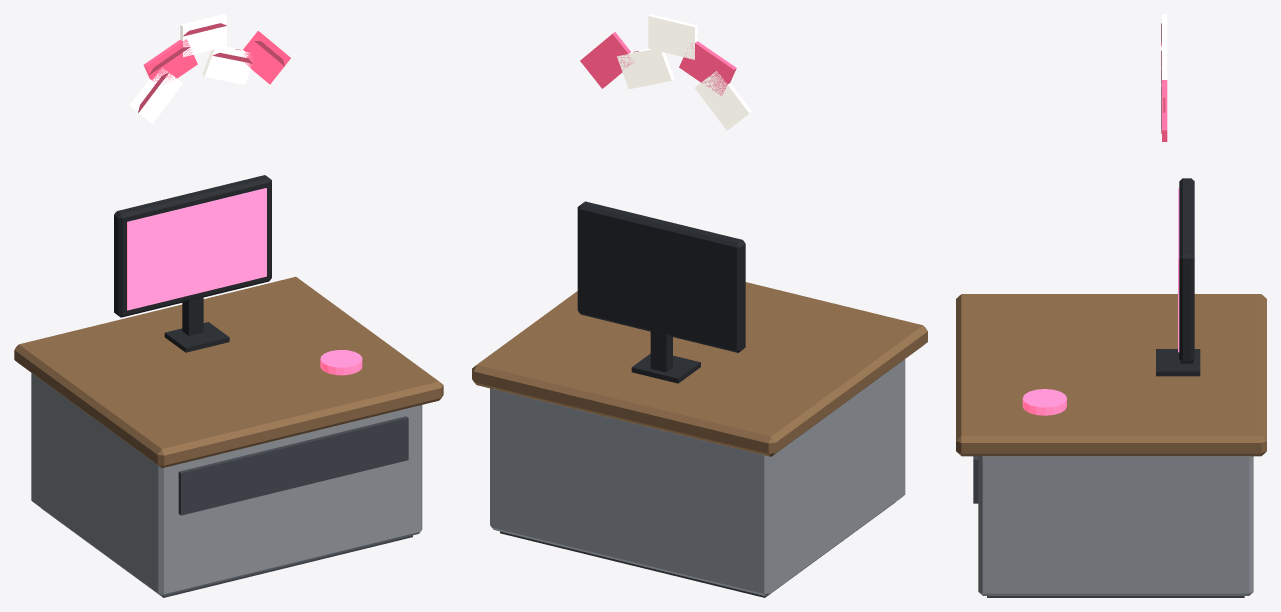
The model's file is replyall_2.glb.
3 views of the same model, side by side, from view 1: azimuth 30°, elevation 25°; view 2: azimuth 150°, elevation 25°; view 3: azimuth 270°, elevation 25° (orthographic). The views are drawn at different scales.
Parts seen in each view (by area): view 1: replyall_2_mesh_Desk, replyall_2_mesh; view 2: replyall_2_mesh_Desk, replyall_2_mesh; view 3: replyall_2_mesh_Desk, replyall_2_mesh.
Part boxes in pixels (bbox=[...]): replyall_2_mesh_Desk: bbox=[14, 276, 443, 597]; replyall_2_mesh: bbox=[114, 14, 362, 375]; replyall_2_mesh_Desk: bbox=[472, 282, 927, 597]; replyall_2_mesh: bbox=[577, 14, 751, 383]; replyall_2_mesh_Desk: bbox=[956, 294, 1266, 597]; replyall_2_mesh: bbox=[1022, 14, 1200, 415].
Size of the model in its own units: 0.78 by 1.26 by 0.7.
